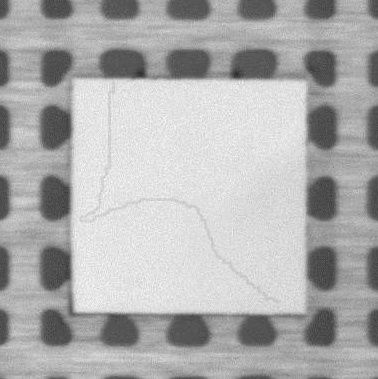DIE_CRACK: (79, 79, 287, 306)
